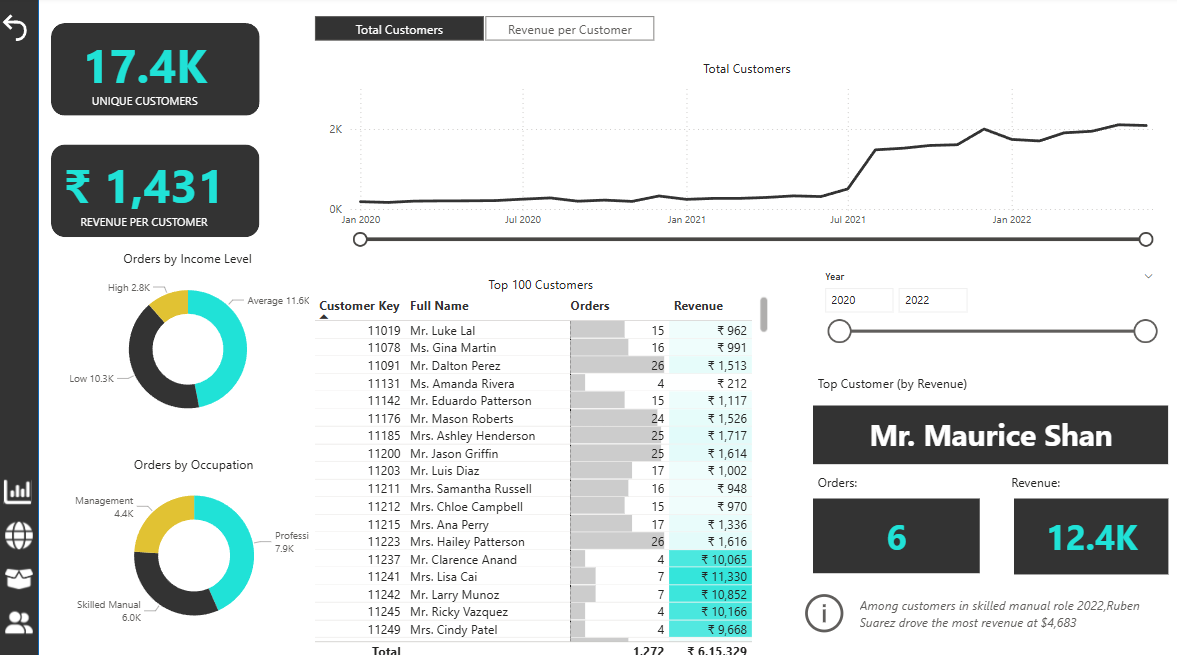

The page's visual inventory and layout, read from the dashboard file:
{"tool":"powerbi","page":{"name":"Customer Detail","canvas":[1280,720],"ordinal":3},"visuals":[{"type":"shape","box":[0,0,45.3,720.6],"z":0},{"type":"actionButton","box":[2.5,516.7,45.6,37.8],"z":0,"group":"g1"},{"type":"shape","box":[59.1,29.5,225.3,100.1],"z":1000},{"type":"actionButton","box":[3.3,563.4,45.6,37.8],"z":1000,"group":"g1"},{"type":"shape","box":[58.3,160,225,100],"z":2000},{"type":"actionButton","box":[3.3,611.1,45.6,37.8],"z":2000,"group":"g1"},{"type":"card","fields":{"Values":["Measure Table.Average Revenue per Customer"]},"box":[25,131.7,268.3,158.3],"z":3000},{"type":"actionButton","box":[3.3,657.8,45.6,37.8],"z":3000,"group":"g1"},{"type":"card","fields":{"Values":["Measure Table.Total Customers"]},"box":[25,0,269.6,159.8],"z":4000},{"type":"lineChart","fields":{"Y":["Measure Table.Total Customers"],"Category":["Calendar Lookup.Date Hierarchy.Start of Year","Calendar Lookup.Date Hierarchy.Start of Month","Calendar Lookup.Date Hierarchy.Start of Week","Calendar Lookup.Date Hierarchy.Date"]},"box":[353,68,913.2,205.6],"z":5000},{"type":"donutChart","title":"Orders by Income Level","fields":{"Category":["Customer Lookup.Income Level"],"Y":["Measure Table.Total Orders"]},"box":[58.3,273.3,295,196.7],"z":6000},{"type":"donutChart","title":"Orders by Occupation","fields":{"Y":["Measure Table.Total Orders"],"Category":["Customer Lookup.Occupation"]},"box":[58.3,495,308.3,198.3],"z":7000},{"type":"tableEx","title":"Top 100 Customers","fields":{"Values":["Customer Lookup.CustomerKey","Customer Lookup.Customer Full Name (CC)","Measure Table.Total Orders","Measure Table.Total Revenue"]},"box":[336.8,301.2,500.3,419.4],"z":8000},{"type":"card","fields":{"Values":["Calendar Lookup.Full Name (Customer Details)"]},"box":[881,441.7,383.3,63.3],"z":9000},{"type":"card","fields":{"Values":["Measure Table.Total Revenue (Customer Details)"]},"box":[1097.6,541.7,166.7,81.7],"z":10000},{"type":"card","fields":{"Values":["Measure Table.Total Orders (Customer Details)"]},"box":[880.9,542.4,179.7,81],"z":11000},{"type":"textbox","box":[881,403.7,288.3,43.3],"z":12000},{"type":"textbox","box":[881,510.4,265,43.3],"z":13000},{"type":"textbox","box":[1089,509.3,191.7,43.3],"z":14000},{"type":"slicer","fields":{"Values":["Calendar Lookup.Year"]},"box":[880.6,291,379.8,96.4],"z":15000},{"type":"actionButton","box":[866.3,639.6,395.1,53.4],"z":16000},{"type":"actionButton","box":[0,14.6,45.3,38.9],"z":17000},{"type":"group","id":"g1","title":"Navigation Buttons","box":[2.5,516.7,46.4,178.9],"z":18000},{"type":"slicer","fields":{"Values":["Customer Metric Selection.Customer Metric Selection"]},"box":[317.4,14.6,416.1,35.6],"z":19000}]}

Visuals, with their boxes on the page's 1280x720 design canvas (x1, y1, x2, y2). These are canvas units, not pixel positions in the 1177x655 screenshot, which may show the page scaled, cropped or inside an application window:
shape: box(0, 0, 45, 721)
actionButton: box(2, 517, 48, 554)
shape: box(59, 30, 284, 130)
actionButton: box(3, 563, 49, 601)
shape: box(58, 160, 283, 260)
actionButton: box(3, 611, 49, 649)
card - Measure Table.Average Revenue per Customer: box(25, 132, 293, 290)
actionButton: box(3, 658, 49, 696)
card - Measure Table.Total Customers: box(25, 0, 295, 160)
lineChart - Measure Table.Total Customers x Calendar Lookup.Date Hierarchy.Start of Year: box(353, 68, 1266, 274)
"Orders by Income Level" donutChart: box(58, 273, 353, 470)
"Orders by Occupation" donutChart: box(58, 495, 367, 693)
"Top 100 Customers" tableEx: box(337, 301, 837, 721)
card - Calendar Lookup.Full Name (Customer Details): box(881, 442, 1264, 505)
card - Measure Table.Total Revenue (Customer Details): box(1098, 542, 1264, 623)
card - Measure Table.Total Orders (Customer Details): box(881, 542, 1061, 623)
textbox: box(881, 404, 1169, 447)
textbox: box(881, 510, 1146, 554)
textbox: box(1089, 509, 1281, 553)
slicer - Calendar Lookup.Year: box(881, 291, 1260, 387)
actionButton: box(866, 640, 1261, 693)
actionButton: box(0, 15, 45, 54)
"Navigation Buttons" group: box(2, 517, 49, 696)
slicer - Customer Metric Selection.Customer Metric Selection: box(317, 15, 734, 50)
